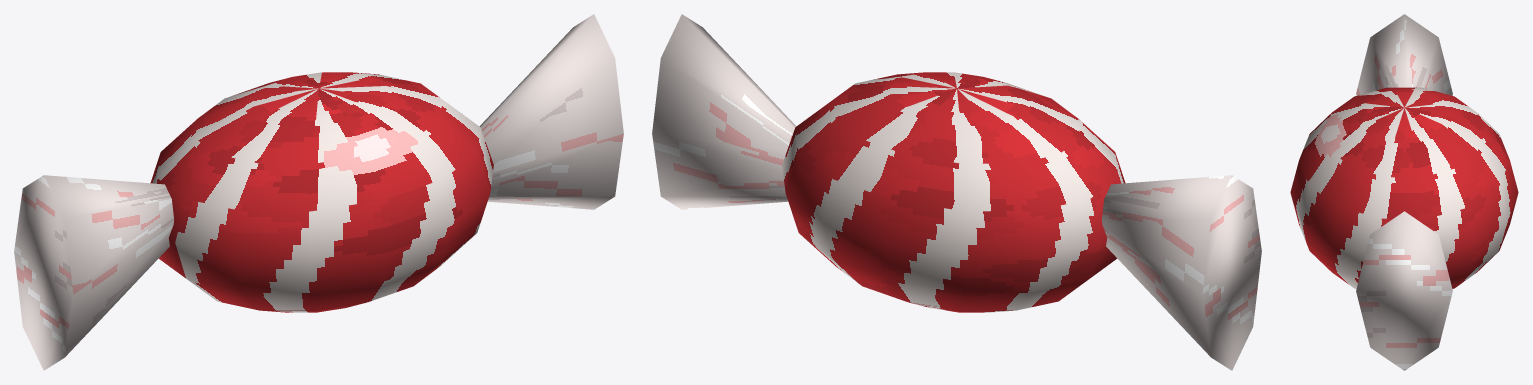
File: candy_own.glb
The picture shows the model from 3 angles, left to right: view 1: azimuth 30°, elevation 25°; view 2: azimuth 150°, elevation 25°; view 3: azimuth 270°, elevation 25°; orthographic projection. The views are drawn at different scales.
Visible parts, largest first — view 1: Sphere; view 2: Sphere; view 3: Sphere.
Boxes of the visible parts, x1=… form: Sphere: x1=14, y1=14, x2=623, y2=370; Sphere: x1=652, y1=14, x2=1261, y2=370; Sphere: x1=1290, y1=14, x2=1518, y2=370.
Bounding box in the file's own units: 0.05 × 0.0193 × 0.022.
2 materials, 2 textured.
